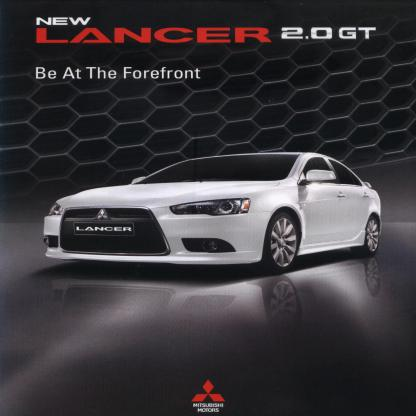Vehicle: (36, 149, 382, 279)
